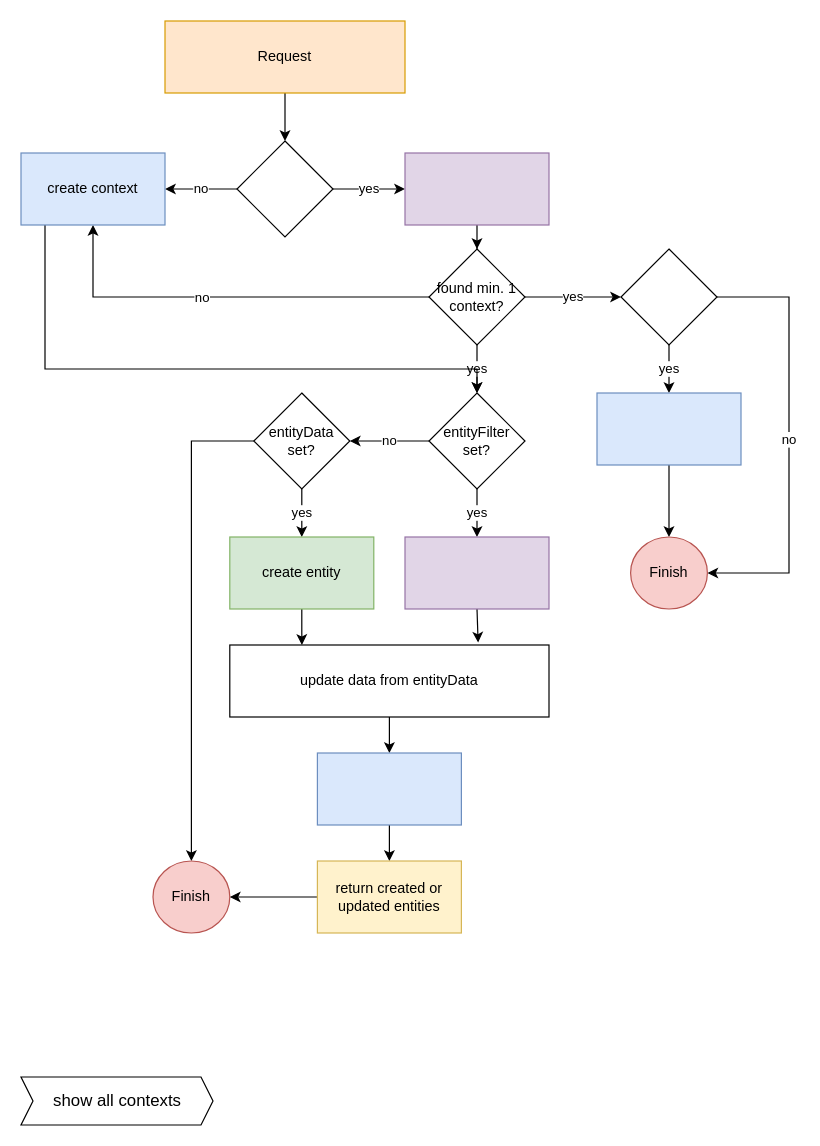
This 820x1146 diagram has some shape labels left out. Each missing label, with the centre of its shape:
contextData set?: point 668,296
contextFilter set?: point 284,188
find contexts: point 476,188
find entities: point 476,572
safe entity or entities: point 388,788
update or delete context: point 668,428
